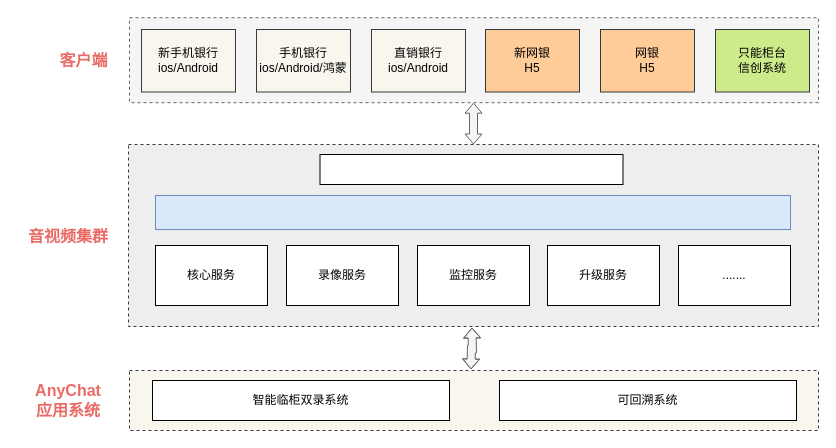
Some shapes in this 836 by 448 pixel diagram are drawn without their labels. Here are the shapes that lost their labels. From the top down, the box of each, then its label:
(319, 154, 623, 184): 接入服务
(154, 194, 790, 230): 通线总线
